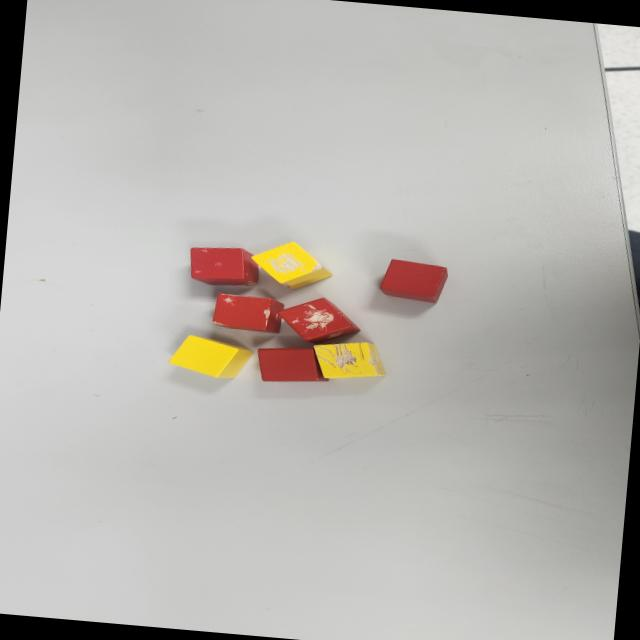broken: (248, 238, 335, 294), (276, 292, 363, 348), (310, 337, 388, 383), (187, 243, 262, 290), (380, 258, 450, 305), (211, 291, 285, 334)
red: (378, 258, 450, 304), (254, 343, 330, 386)
yellow: (166, 333, 254, 380)
